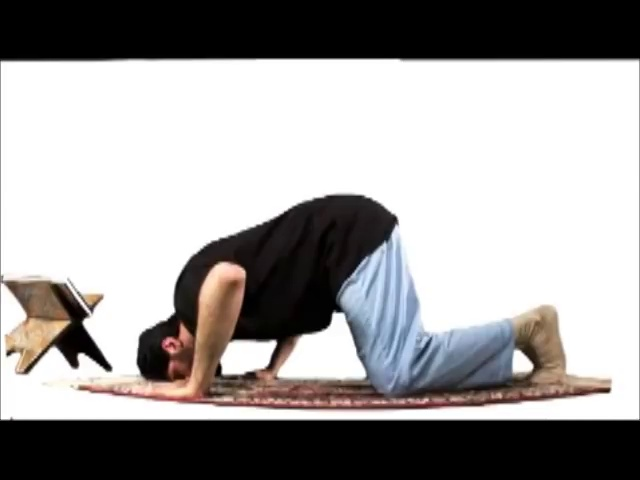sujud: (135, 192, 569, 408)
